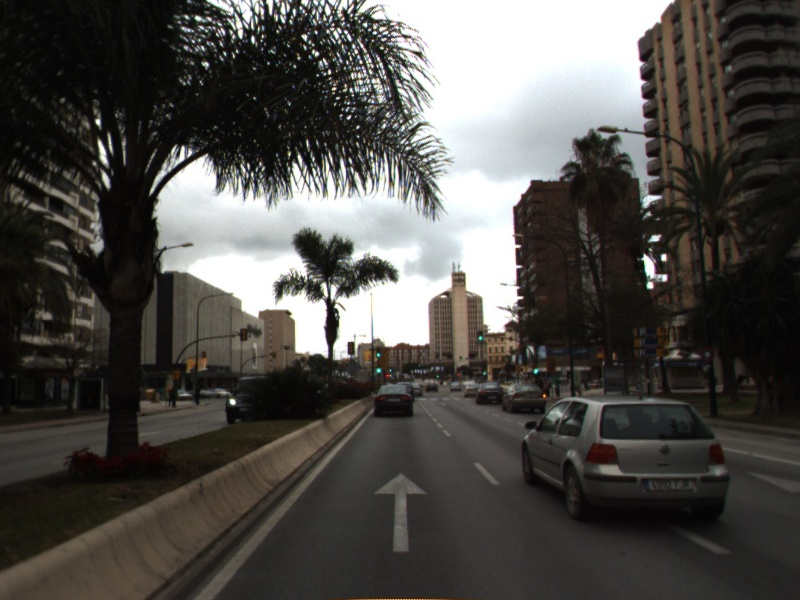STRAIGHT: (371, 469, 430, 555)
